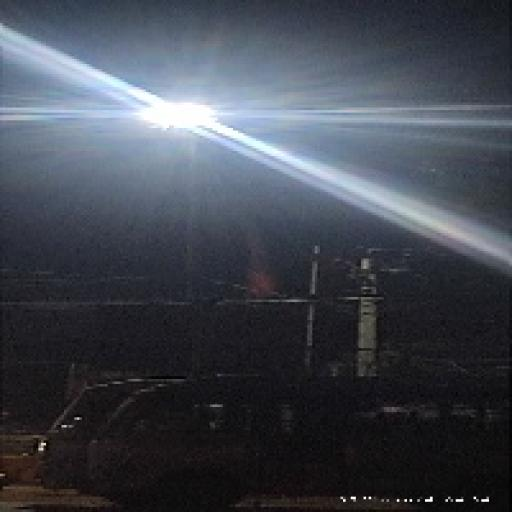Working: (117, 83, 236, 147)
